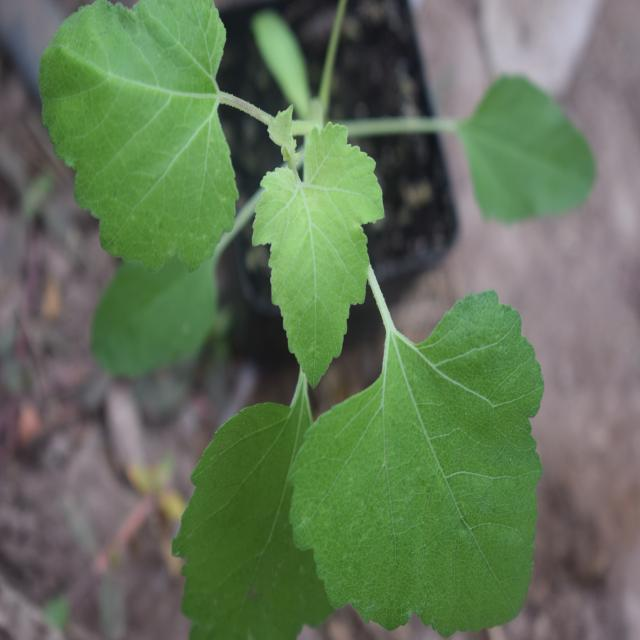cocklebur: (41, 9, 548, 616)
